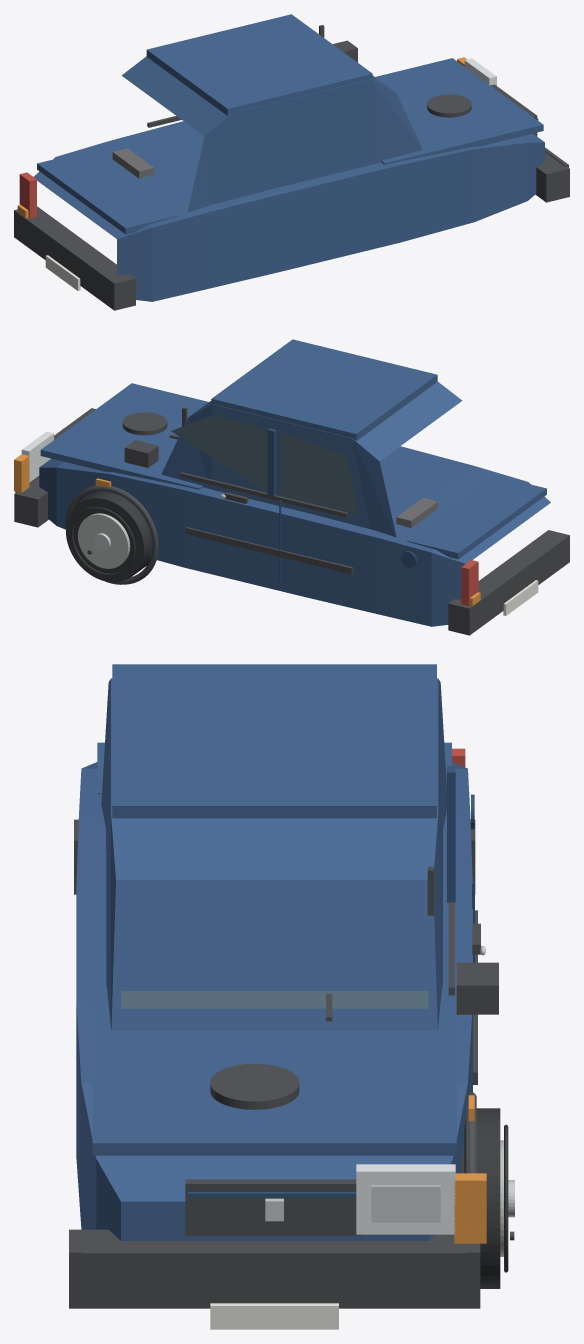
Rendered from car.glb.
3 renders of one model, top to bottom at view 1: azimuth 30°, elevation 25°; view 2: azimuth 150°, elevation 25°; view 3: azimuth 270°, elevation 25°, orthographic. The views are drawn at different scales.
Parts seen in each view (by area): view 1: Основной кузов ВАЗ-2108, Крыша и стойки кузова, Панель крыши, Капот, Задняя крышка, Задний бампер, Передний бампер, Корпус воздушного фильтра, Задняя спинка, Задний фонарь, Задняя номерная площадка, Прямоугольная фара; view 2: Основной кузов ВАЗ-2108, Панель крыши, Крыша и стойки кузова, Капот, Задняя крышка, Задний бампер, Переднее боковое стекло, Заднее боковое стекло, Шина, Стальной диск, Боковой молдинг, Обводка колёсной арки (+11 smaller); view 3: Крыша и стойки кузова, Панель крыши, Капот, Основной кузов ВАЗ-2108, Передний бампер, Решётка радиатора, Верхняя накладка бампера, Лобовое стекло, Прямоугольная фара, Шина, Передняя номерная площадка, Корпус воздушного фильтра (+6 smaller).
Boxes of the visible parts, bbox=[...] form: Основной кузов ВАЗ-2108: bbox=[34, 121, 544, 301]; Крыша и стойки кузова: bbox=[121, 56, 422, 212]; Панель крыши: bbox=[146, 14, 372, 115]; Капот: bbox=[375, 58, 543, 164]; Задняя крышка: bbox=[37, 151, 177, 234]; Задний бампер: bbox=[14, 206, 135, 310]; Передний бампер: bbox=[535, 152, 569, 202]; Корпус воздушного фильтра: bbox=[427, 94, 471, 117]; Задняя спинка: bbox=[112, 148, 154, 178]; Задний фонарь: bbox=[19, 172, 36, 218]; Задняя номерная площадка: bbox=[45, 255, 80, 290]; Прямоугольная фара: bbox=[464, 58, 496, 85]; Основной кузов ВАЗ-2108: bbox=[39, 446, 550, 626]; Панель крыши: bbox=[211, 339, 437, 440]; Крыша и стойки кузова: bbox=[161, 382, 462, 537]; Капот: bbox=[40, 383, 208, 489]; Задняя крышка: bbox=[407, 476, 546, 559]; Задний бампер: bbox=[448, 530, 569, 635]; Переднее боковое стекло: bbox=[279, 432, 358, 514]; Заднее боковое стекло: bbox=[171, 415, 267, 491]; Шина: bbox=[66, 492, 151, 582]; Стальной диск: bbox=[77, 513, 130, 568]; Боковой молдинг: bbox=[185, 527, 353, 574]; Обводка колёсной арки: bbox=[65, 485, 158, 584]; Крыша и стойки кузова: bbox=[101, 678, 446, 1030]; Панель крыши: bbox=[112, 664, 436, 818]; Капот: bbox=[92, 988, 456, 1155]; Основной кузов ВАЗ-2108: bbox=[76, 762, 472, 1240]; Передний бампер: bbox=[69, 1229, 480, 1308]; Решётка радиатора: bbox=[185, 1179, 363, 1235]; Верхняя накладка бампера: bbox=[82, 1249, 466, 1263]; Лобовое стекло: bbox=[121, 991, 428, 1008]; Прямоугольная фара: bbox=[356, 1164, 455, 1234]; Шина: bbox=[461, 1108, 500, 1288]; Передняя номерная площадка: bbox=[210, 1303, 338, 1329]; Корпус воздушного фильтра: bbox=[210, 1063, 299, 1109].
Size of the model in its own units: 4.28 by 1.79 by 1.8.
